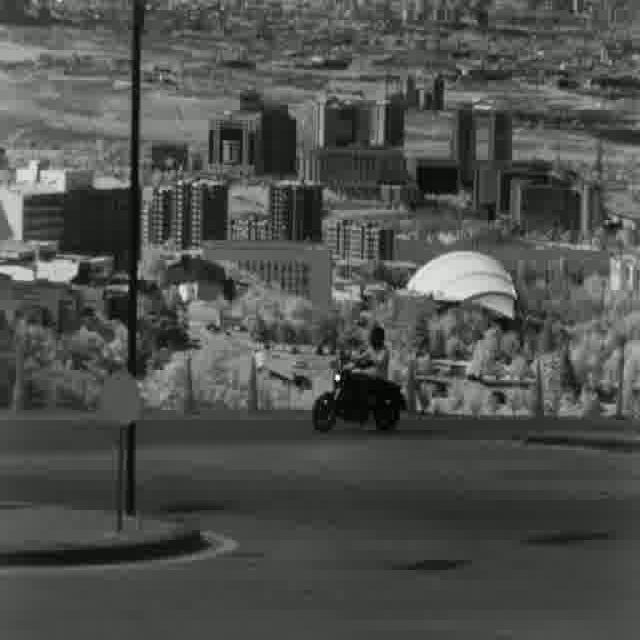Motorcycle: (306, 322, 404, 433)
